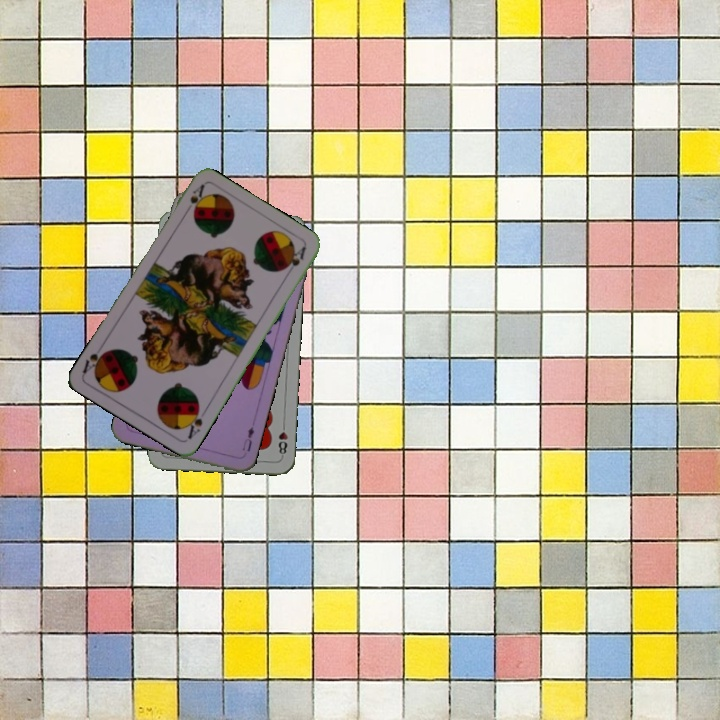EU: (238, 423, 257, 454)
H8: (274, 419, 290, 459)
SA: (182, 402, 209, 442), (180, 180, 207, 218)
